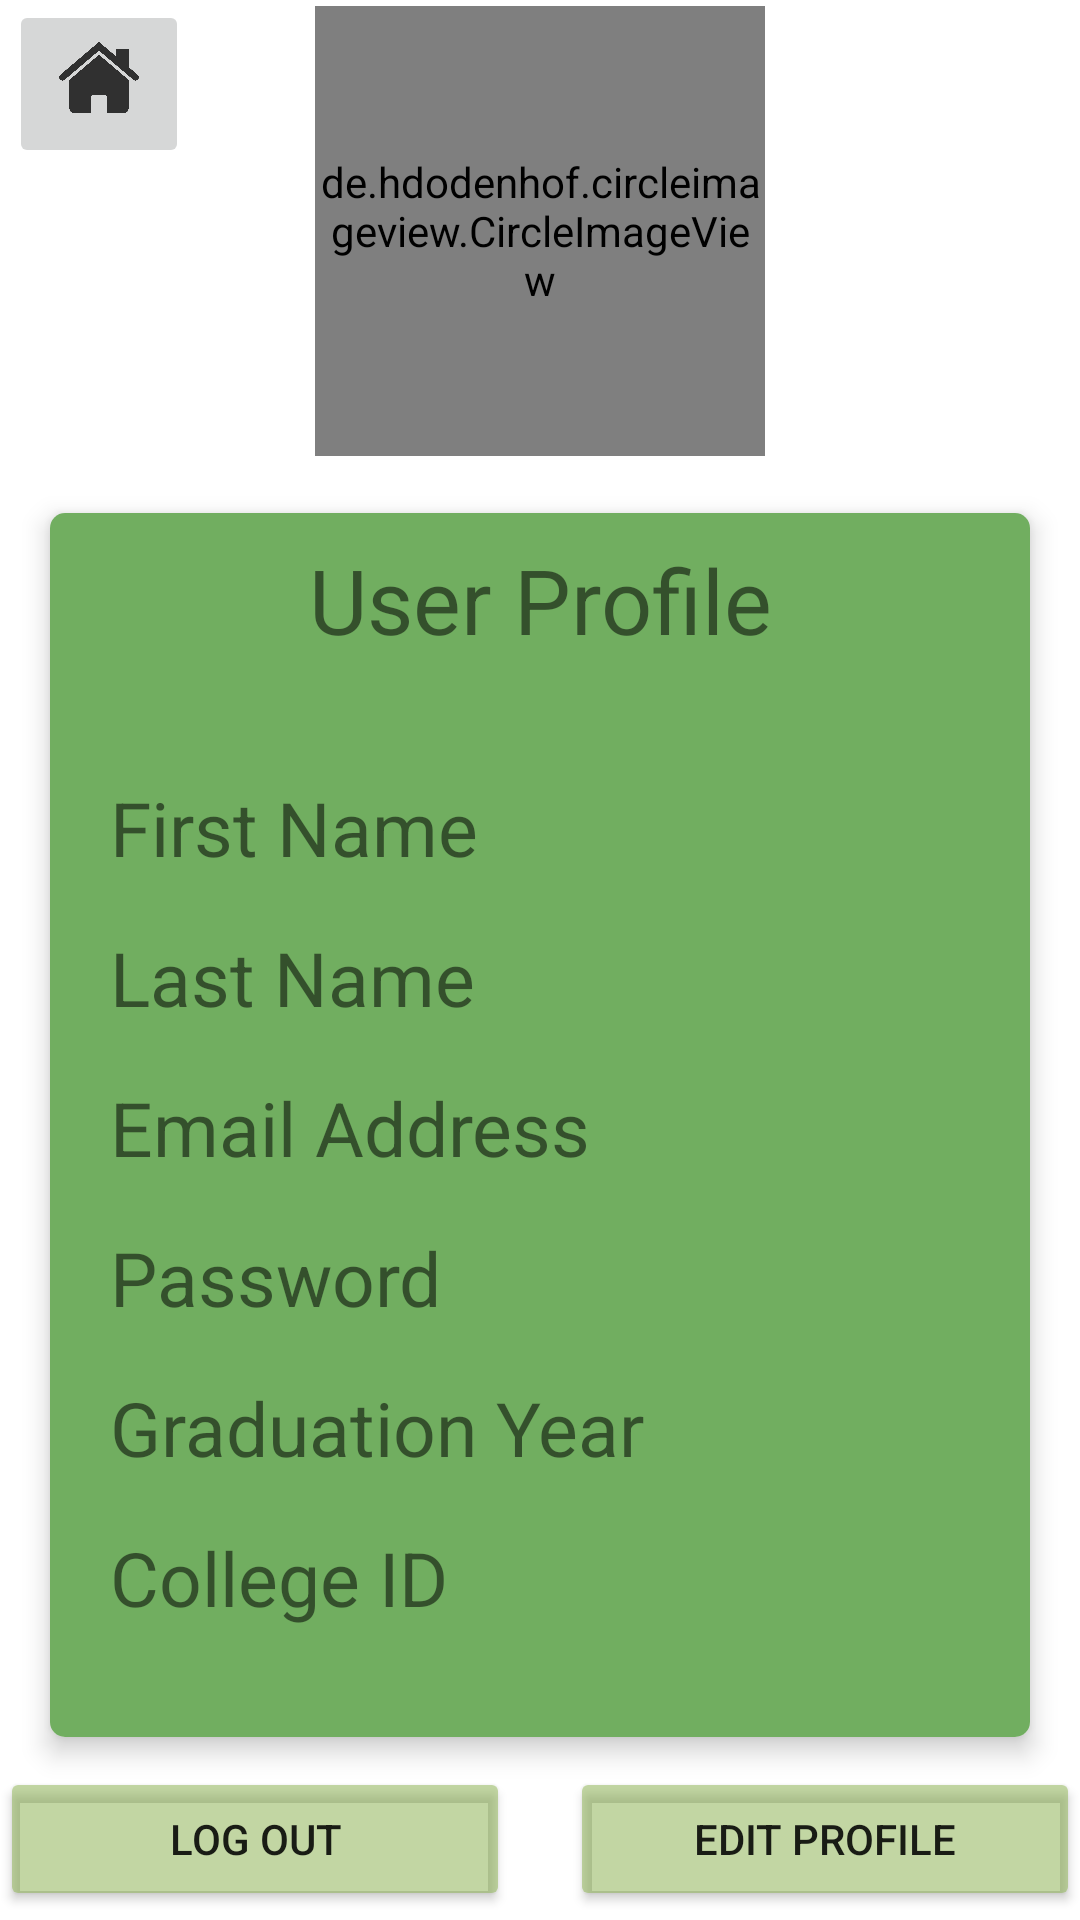

Where to tap for icons on this 1080×1920 app screen, as (x=x, y=y):
home: (x=99, y=84)
